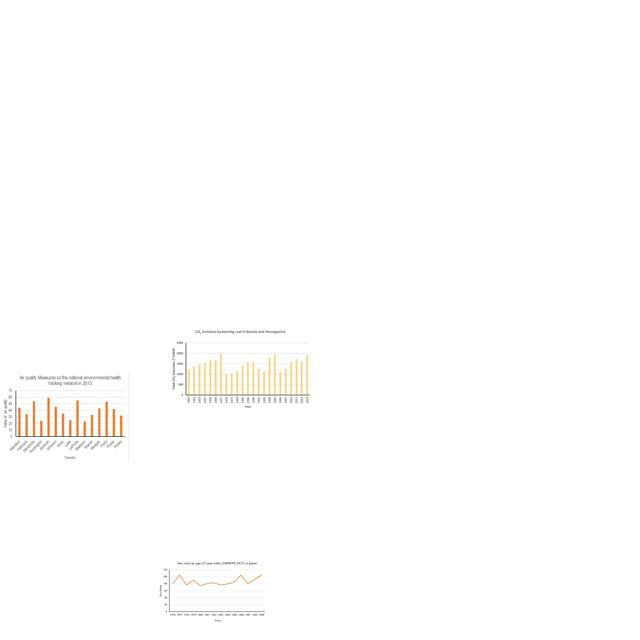Graph: (170, 329, 313, 410), (0, 373, 129, 461), (158, 559, 267, 623)
